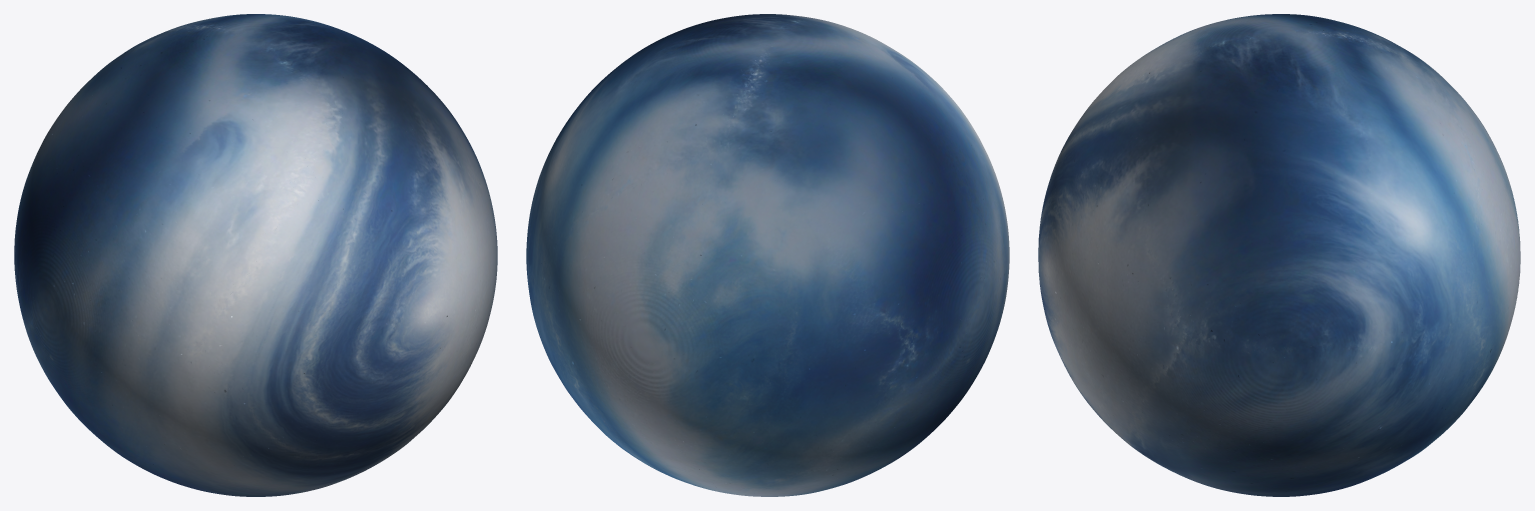
The model's file is planet.glb.
3 views of the same model, side by side, from view 1: azimuth 30°, elevation 25°; view 2: azimuth 150°, elevation 25°; view 3: azimuth 270°, elevation 25° (orthographic).
Parts seen in each view (by area): view 1: Mesh_0; view 2: Mesh_0; view 3: Mesh_0.
Part boxes in pixels (x1,y1,x2,y2): Mesh_0: (14,14,497,496); Mesh_0: (526,14,1009,496); Mesh_0: (1038,14,1520,496).
Bounding box in the file's own units: 10.01 × 10 × 10.01.
1 material, 1 textured.
